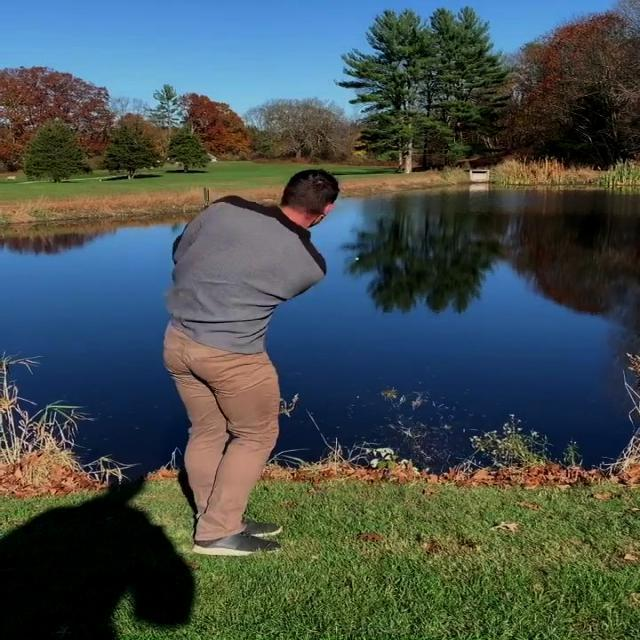ClubHead: (203, 188, 211, 201)
